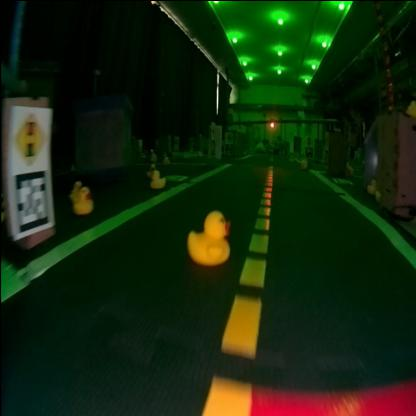Duckie: (187, 209, 231, 262), (75, 186, 93, 210), (70, 178, 82, 198), (152, 170, 166, 184), (367, 178, 375, 192), (146, 162, 154, 174), (406, 102, 414, 114)
QR code: (15, 170, 50, 232), (165, 172, 187, 180), (332, 175, 352, 183), (224, 142, 232, 152), (306, 146, 312, 154)
Signal sign: (11, 112, 48, 166)
Traffic light: (268, 118, 274, 126)
